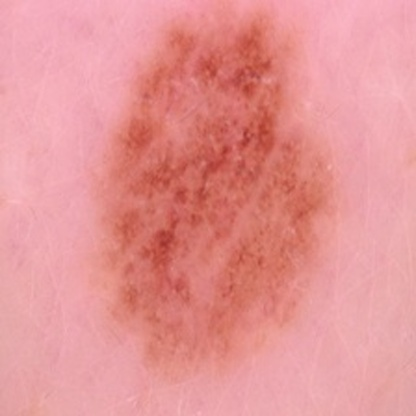benign: (126, 42, 301, 338)
